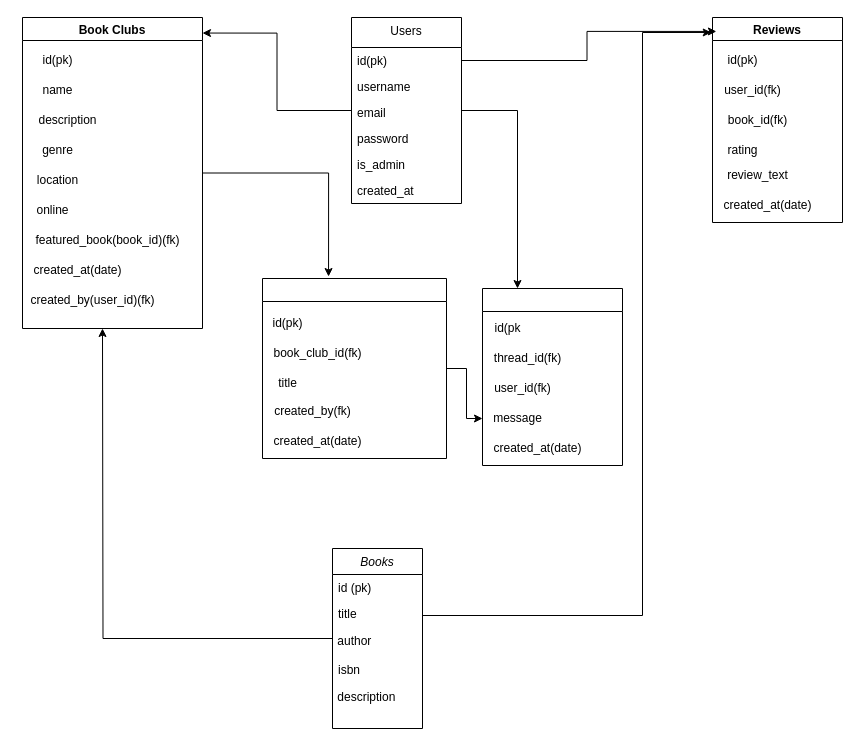
Image size: 860x746. Some labels were removed from this diagram. The box of each missing label's shape, as (x1, y1, x2, y2) in pixels:
Discussion Threads: (262, 278, 446, 458)
Messages: (482, 288, 622, 466)
